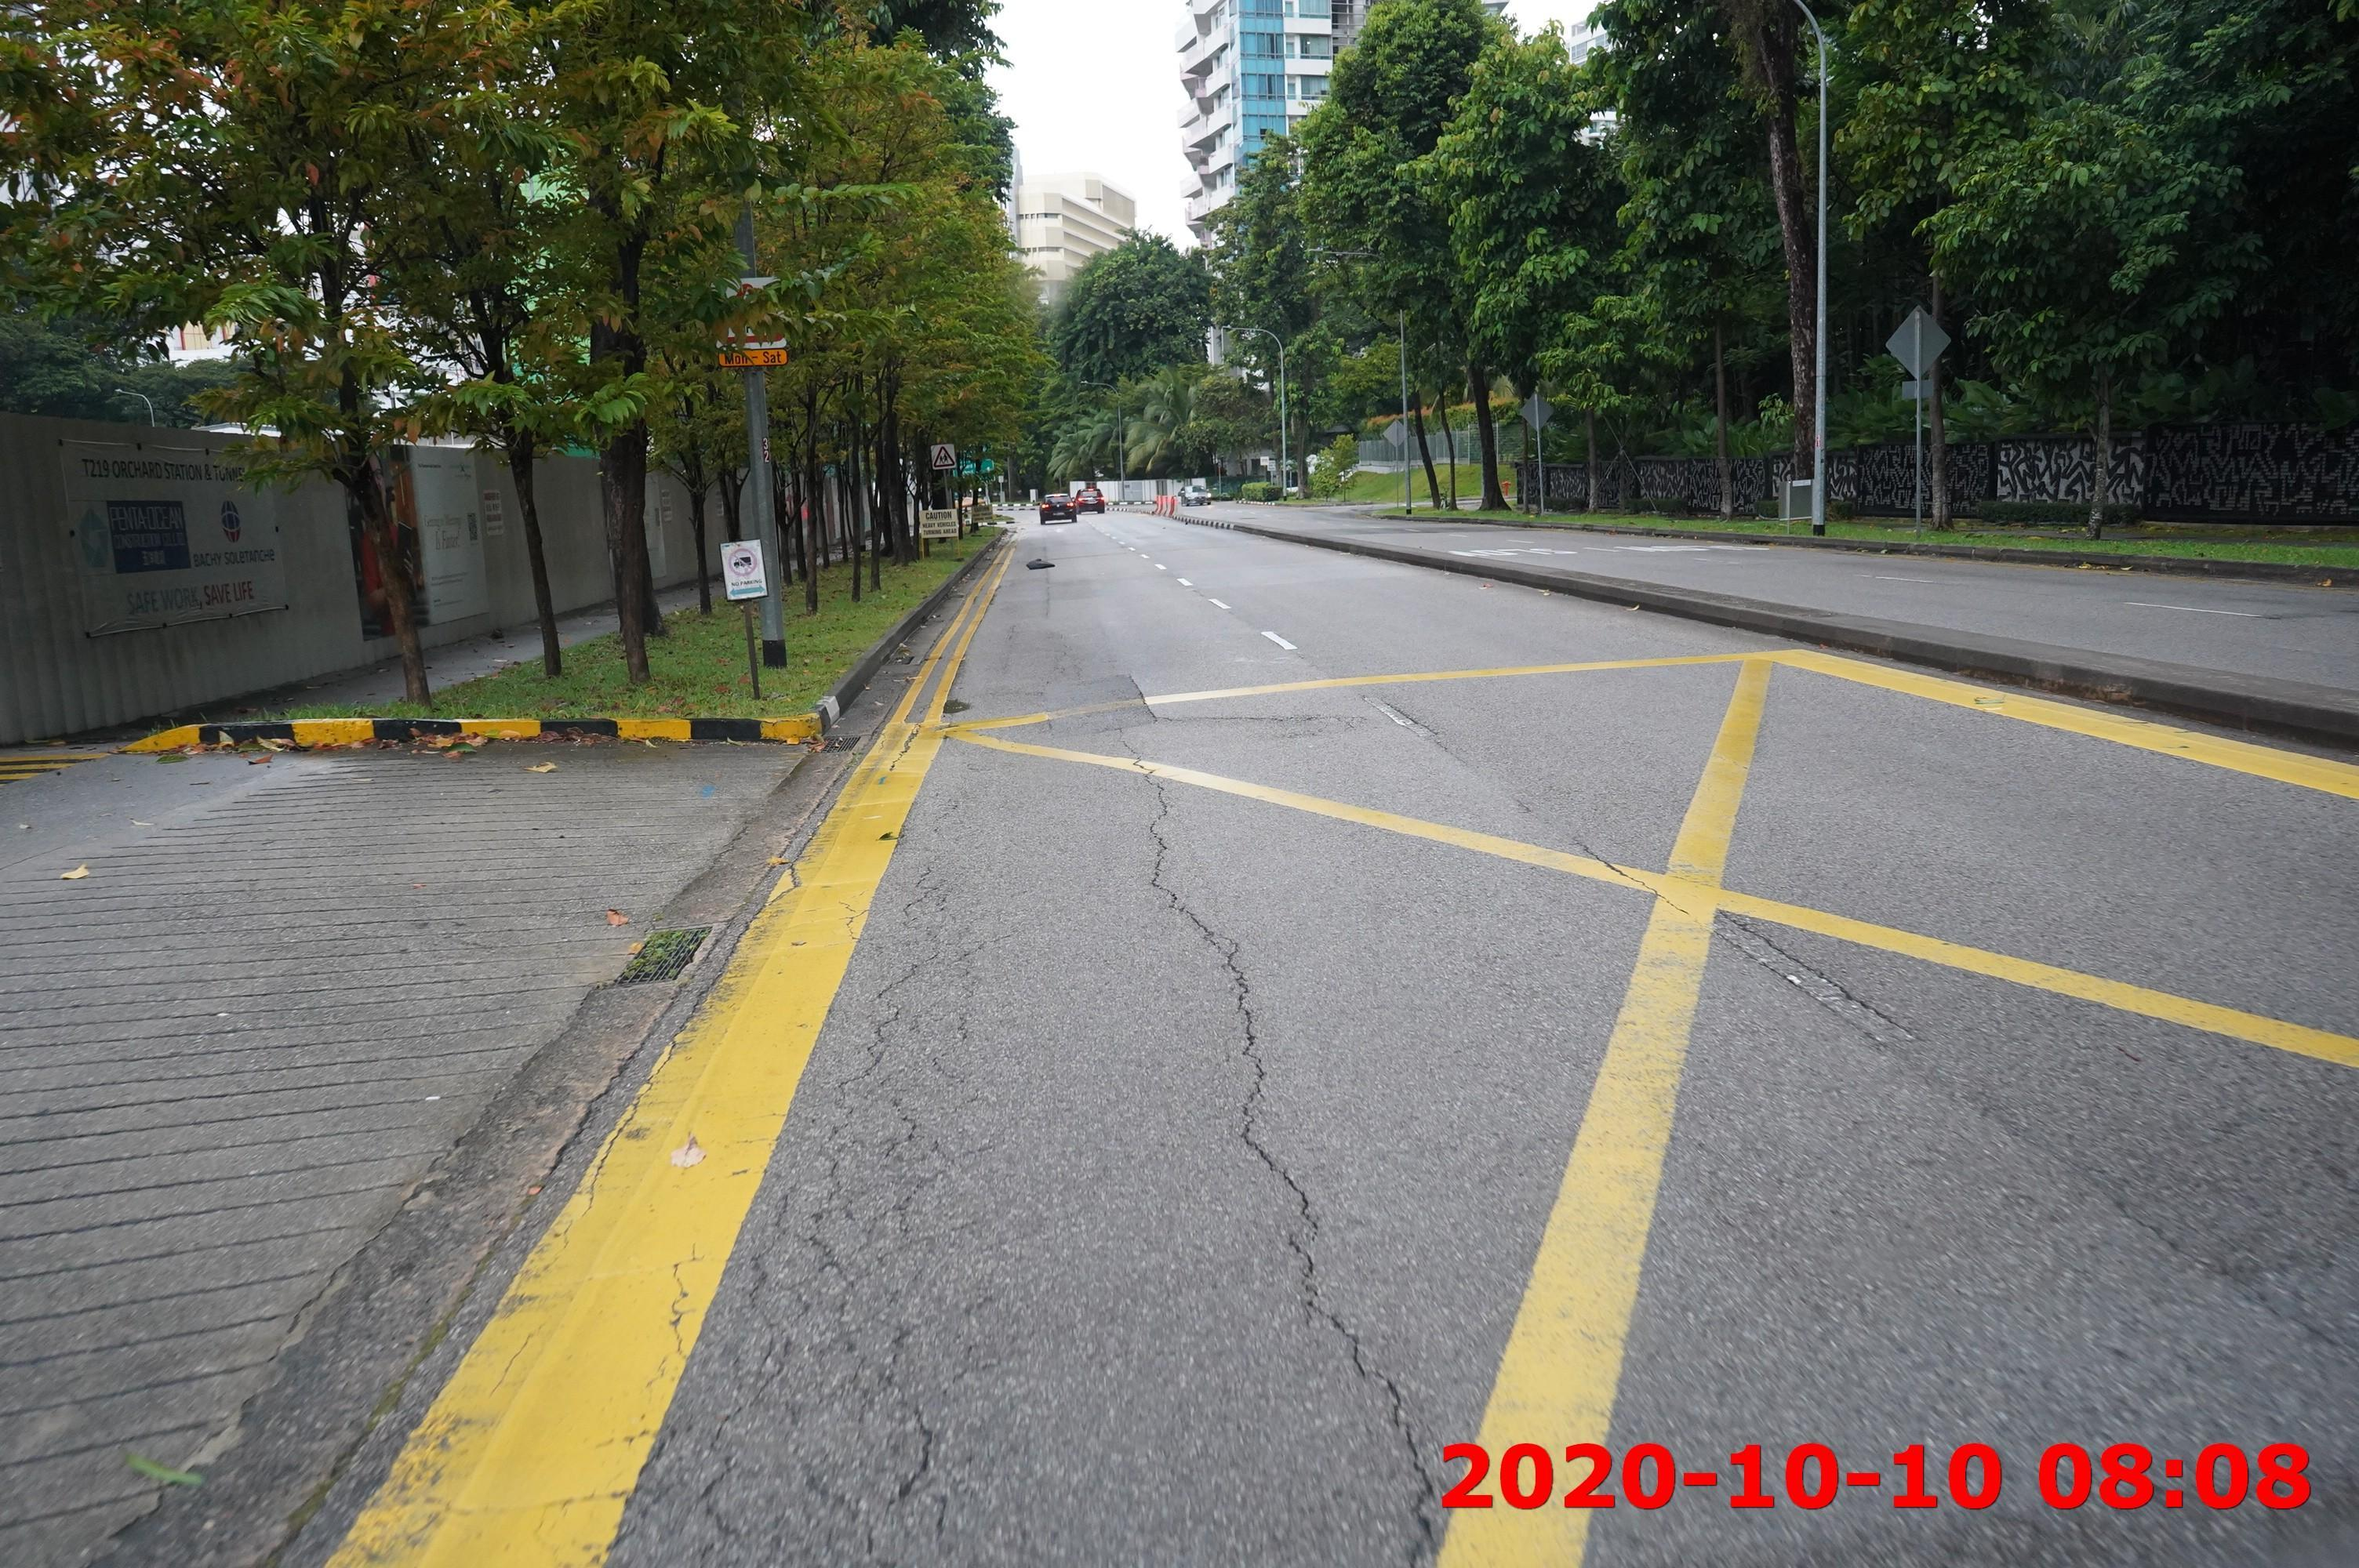alligator crack: (649, 929, 977, 1563)
single crack: (1127, 765, 1451, 1568)
